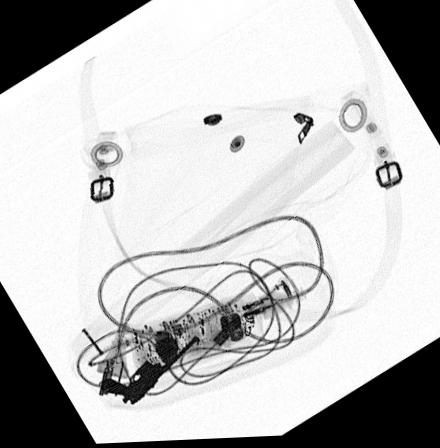Gun: (98, 336, 200, 407)
